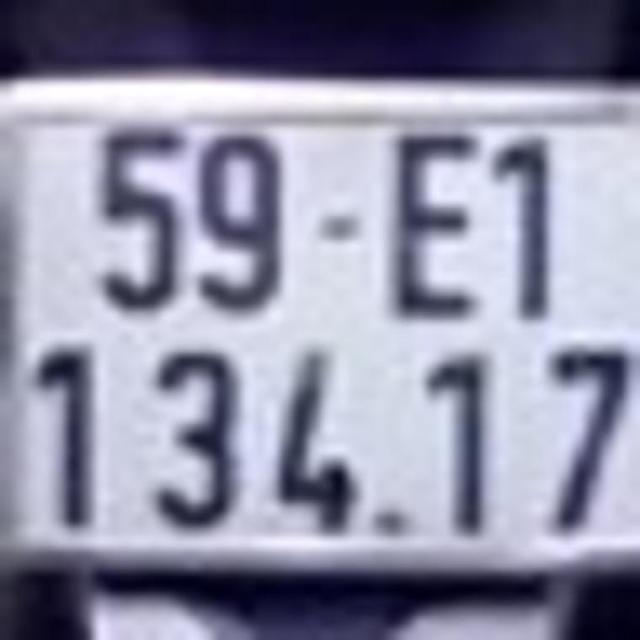1: (491, 125, 560, 321), (34, 338, 102, 529), (425, 346, 492, 537)
3: (150, 345, 239, 532)
4: (274, 341, 358, 536)
5: (97, 122, 185, 314)
7: (543, 338, 632, 534)
9: (196, 131, 285, 314)
E: (392, 125, 482, 322)
